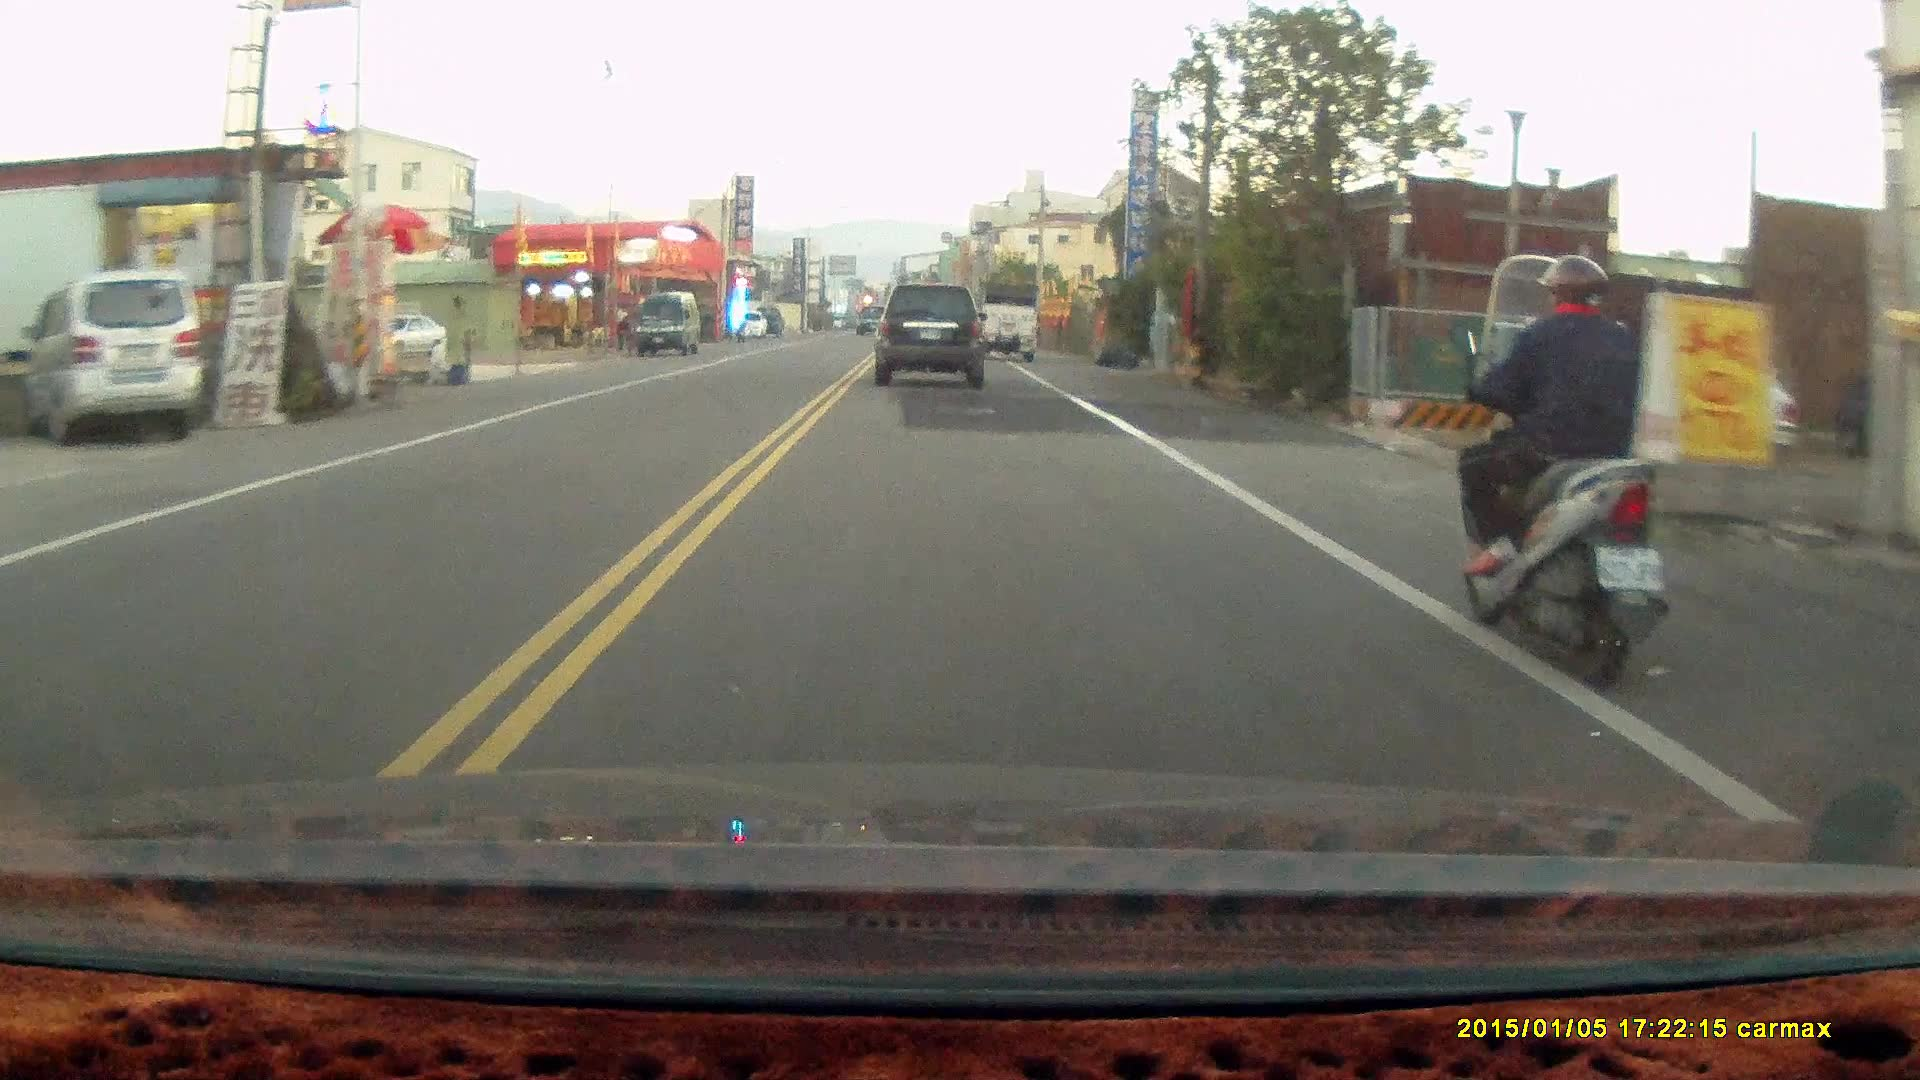rider: (1448, 256, 1669, 699)
vehicle: (27, 267, 210, 443), (877, 279, 993, 388), (979, 282, 1041, 363), (636, 293, 701, 358)
